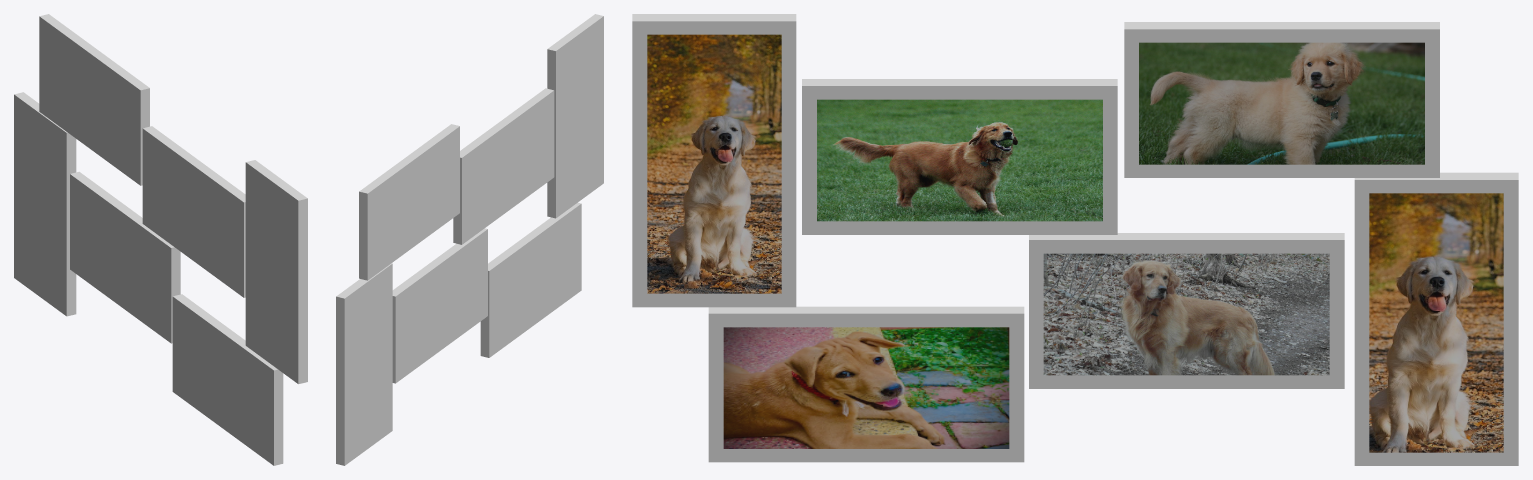
File: Frame21.fbx
The picture shows the model from 3 angles, left to right: view 1: azimuth 30°, elevation 25°; view 2: azimuth 150°, elevation 25°; view 3: azimuth 270°, elevation 25°; orthographic projection. The views are drawn at different scales.
Visible parts, largest first — view 1: Cube; view 2: Cube; view 3: Cube.
Part boxes in pixels (left/top/right/bottom): Cube: left=14, top=14, right=307, bottom=465; Cube: left=336, top=14, right=603, bottom=465; Cube: left=632, top=14, right=1518, bottom=465.
Size of the model in its own units: 20.77 by 598 by 1080.
Materials: 12 (6 with a texture image).
